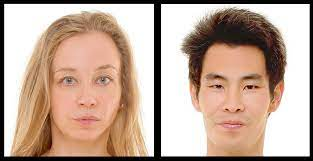face: (199, 68, 271, 157), (52, 60, 126, 140)
